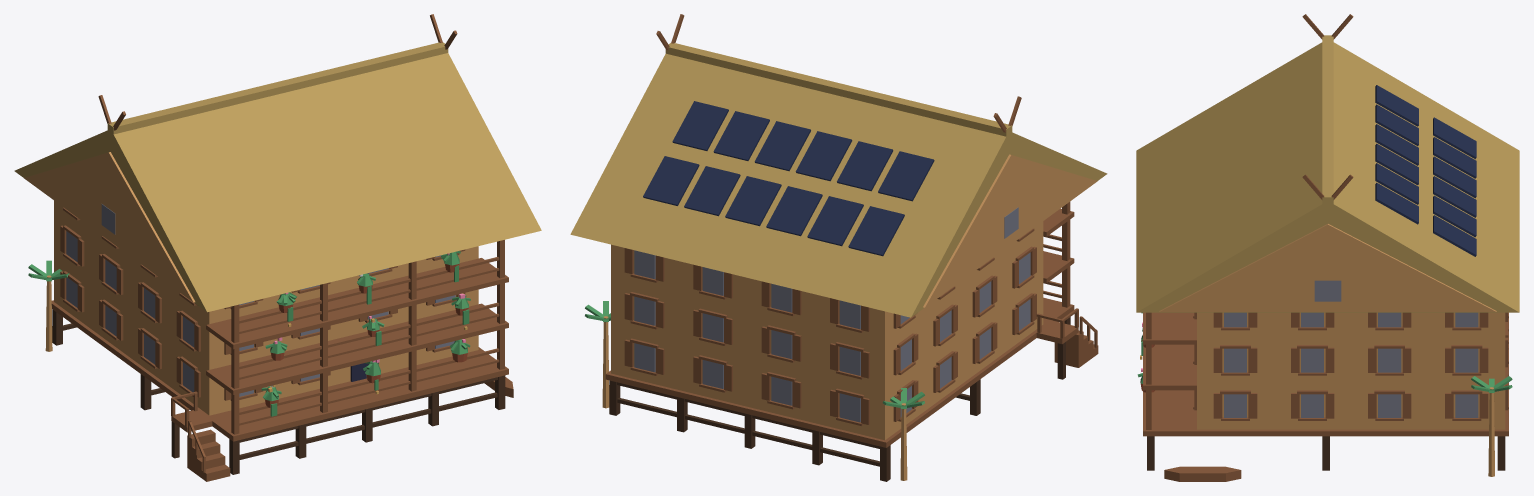
The model's file is house-2x2-3f-stilt-a-solar.glb.
3 views of the same model, side by side, from view 1: azimuth 30°, elevation 25°; view 2: azimuth 150°, elevation 25°; view 3: azimuth 270°, elevation 25° (orthographic). The views are drawn at different scales.
Parts seen in each view (by area): view 1: house-2x2-3f-stilt-a-solar; view 2: house-2x2-3f-stilt-a-solar; view 3: house-2x2-3f-stilt-a-solar.
Boxes of the visible parts, x1,y1,x2,y2 form: house-2x2-3f-stilt-a-solar: (14,14,541,481); house-2x2-3f-stilt-a-solar: (570,14,1107,481); house-2x2-3f-stilt-a-solar: (1136,14,1519,481).
Bounding box in the file's own units: 2.02 × 1.77 × 1.99.
Materials: 1 (1 with a texture image).
